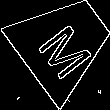M_NE: (31, 9, 97, 77)
